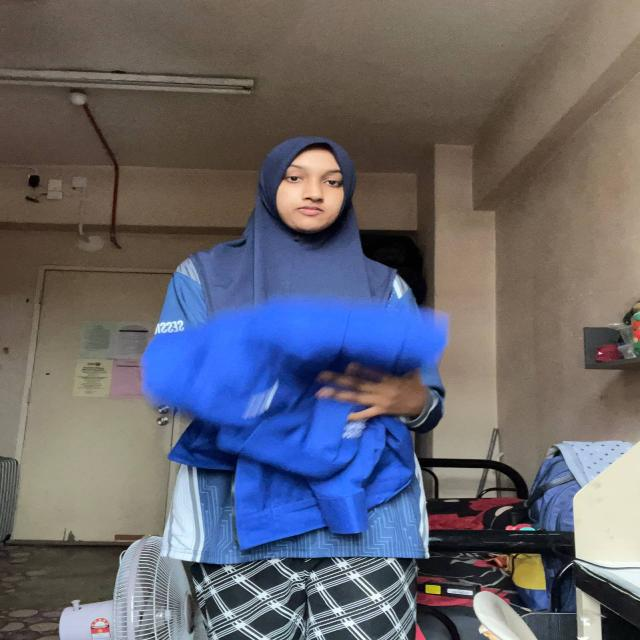person_without_labcoat: (143, 137, 446, 640), (165, 422, 427, 640), (157, 137, 416, 332), (320, 363, 444, 432)
